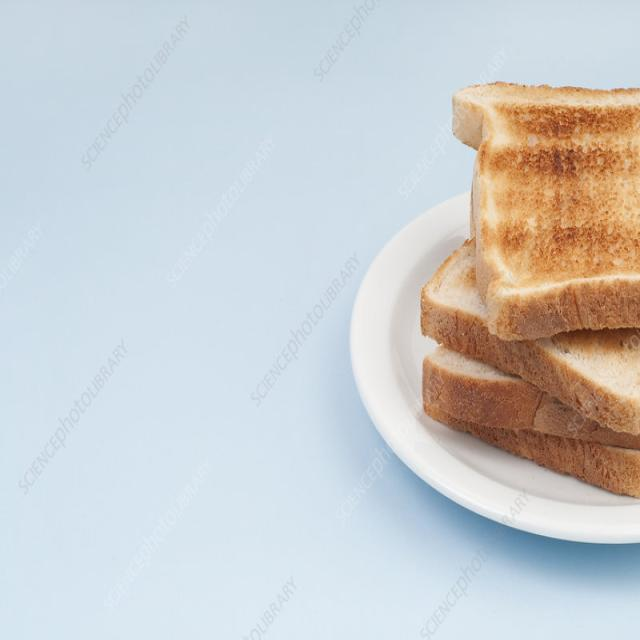Bread: (452, 82, 640, 340), (421, 241, 640, 434)
